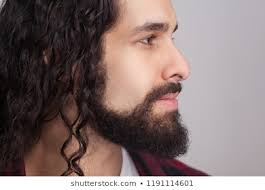middle_eastern_male: (96, 2, 192, 118)
